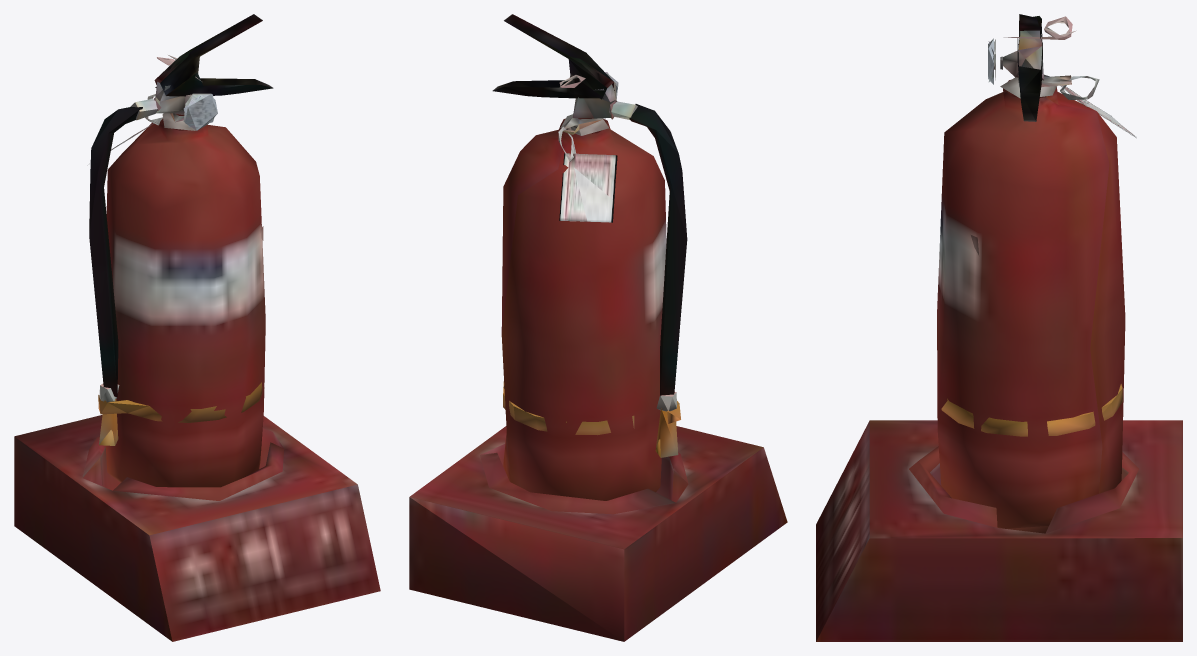
Rendered from fire_extinguisher.glb.
3 renders of one model, left to right at view 1: azimuth 30°, elevation 25°; view 2: azimuth 150°, elevation 25°; view 3: azimuth 270°, elevation 25°, orthographic. The views are drawn at different scales.
Parts seen in each view (by area): view 1: prop; view 2: prop; view 3: prop.
Boxes of the visible parts, box(x1,y1,x2,y2) form: prop: box(14, 14, 380, 641); prop: box(409, 14, 787, 641); prop: box(816, 14, 1182, 641).
Bounding box in the file's own units: 0.255 × 0.6 × 0.3354.
Materials: 1 (1 with a texture image).
